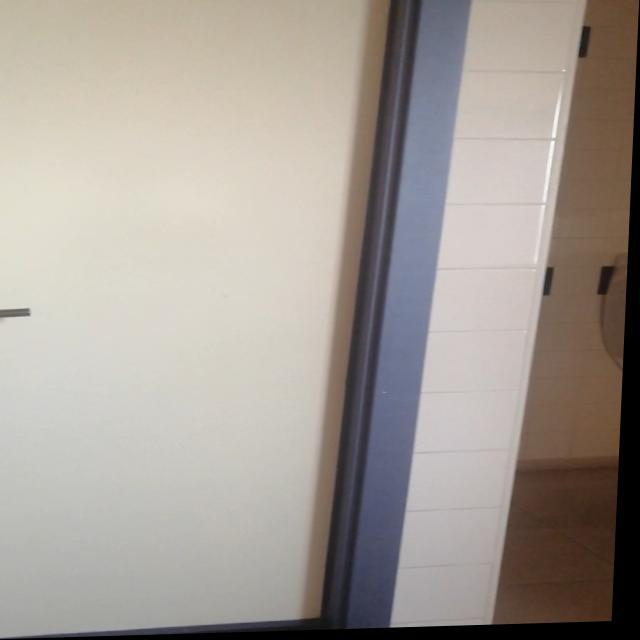door_handle: (0, 306, 37, 322)
